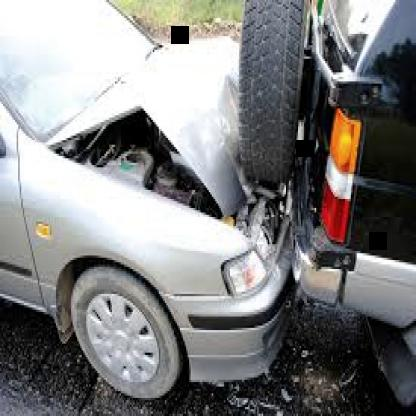accident: (5, 5, 414, 400)
